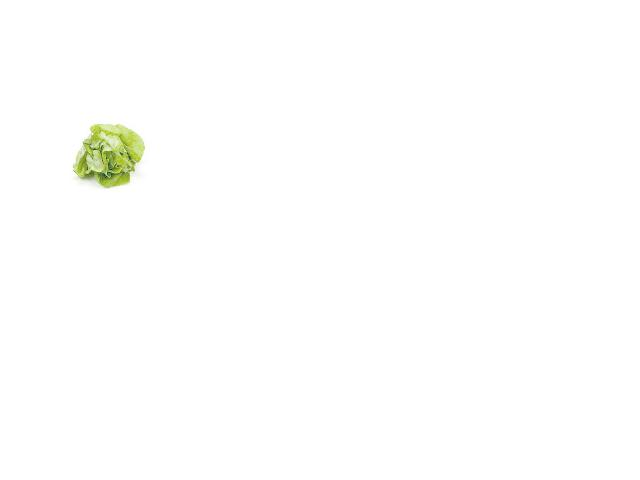lettuce: (71, 117, 145, 191)
